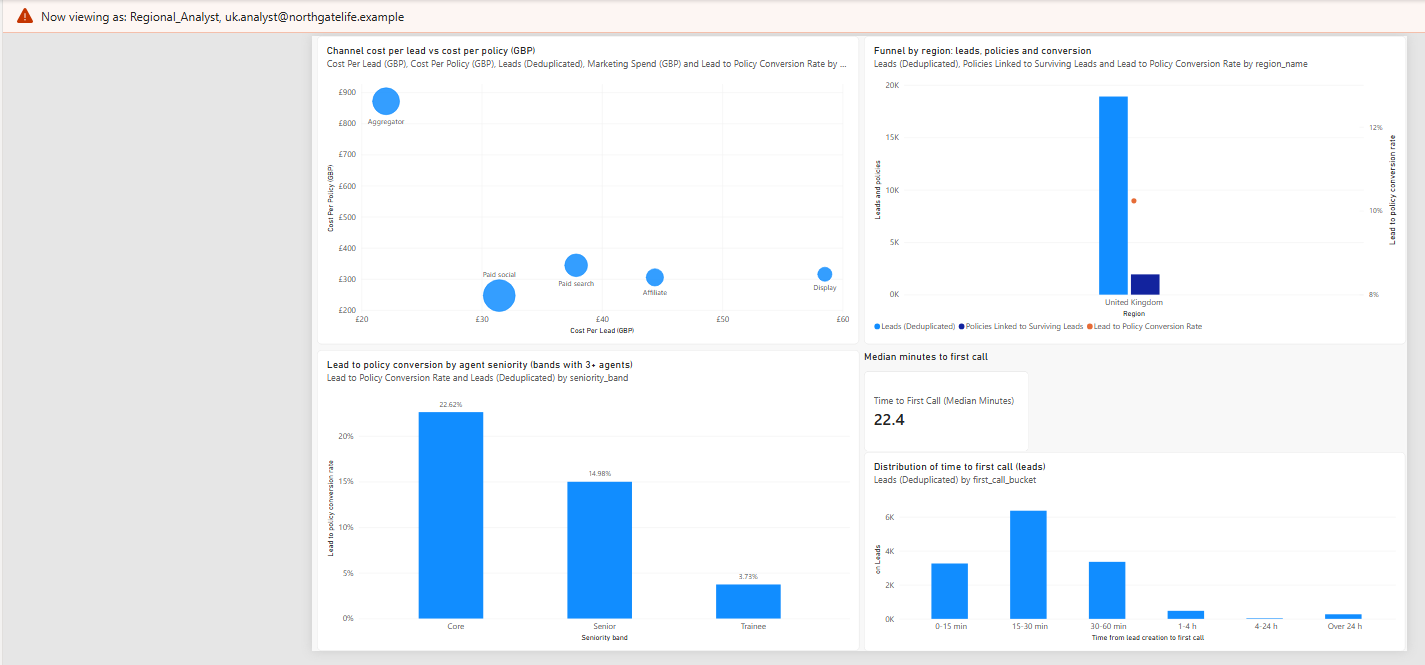

The dashboard page shown, as its layout file describes it:
{"tool":"powerbi","page":{"name":"Northgate Life: funnel overview","canvas":[1920,1080],"ordinal":0},"visuals":[{"type":"scatterChart","title":"Channel cost per lead vs cost per policy (GBP)","fields":{"Category":["dim_channel.channel_name"],"Size":["Key Measures.Leads (Deduplicated)"],"X":["Key Measures.Cost Per Lead (GBP)"],"Y":["Key Measures.Cost Per Policy (GBP)"]},"box":[9.4,0,951.1,540.8],"z":0},{"type":"lineClusteredColumnComboChart","title":"Funnel by region: leads, policies and conversion","fields":{"Category":["dim_region.region_name"],"Y":["Key Measures.Leads (Deduplicated)","Key Measures.Policies Linked to Surviving Leads"],"Y2":["Key Measures.Lead to Policy Conversion Rate"]},"box":[968.4,0,951.1,540.8],"z":1000},{"type":"clusteredColumnChart","title":"Lead to policy conversion by agent seniority (bands with 3+ agents)","fields":{"Category":["dim_agent_seniority.seniority_band"],"Y":["Key Measures.Lead to Policy Conversion Rate"]},"box":[8.8,551.1,952.1,528.1],"z":2000},{"type":"clusteredColumnChart","title":"Distribution of time to first call (leads)","fields":{"Category":["fact_lead_funnel.first_call_bucket"],"Y":["Key Measures.Leads (Deduplicated)"]},"box":[967.9,729.5,950.3,349.7],"z":3000},{"type":"cardVisual","title":"Median minutes to first call","fields":{"Data":["Key Measures.Time to First Call (Median Minutes)"]},"box":[967.9,551.1,289.7,178.4],"z":4000}]}

Visuals, with their boxes on the page's 1920x1080 design canvas (x1, y1, x2, y2). These are canvas units, not pixel positions in the 1425x665 screenshot, which may show the page scaled, cropped or inside an application window:
"Channel cost per lead vs cost per policy (GBP)" scatterChart: x1=9, y1=0, x2=960, y2=541
"Funnel by region: leads, policies and conversion" lineClusteredColumnComboChart: x1=968, y1=0, x2=1920, y2=541
"Lead to policy conversion by agent seniority (bands with 3+ agents)" clusteredColumnChart: x1=9, y1=551, x2=961, y2=1079
"Distribution of time to first call (leads)" clusteredColumnChart: x1=968, y1=730, x2=1918, y2=1079
"Median minutes to first call" cardVisual: x1=968, y1=551, x2=1258, y2=730
